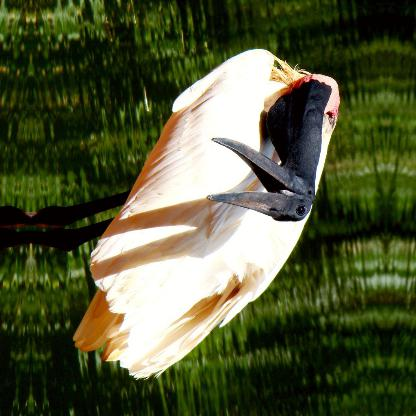Bird: (72, 61, 324, 367)
